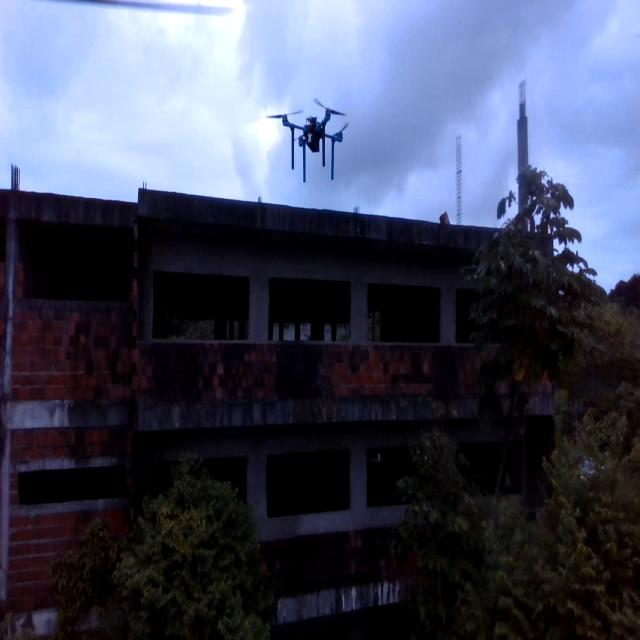-uav-: (264, 90, 352, 187)
